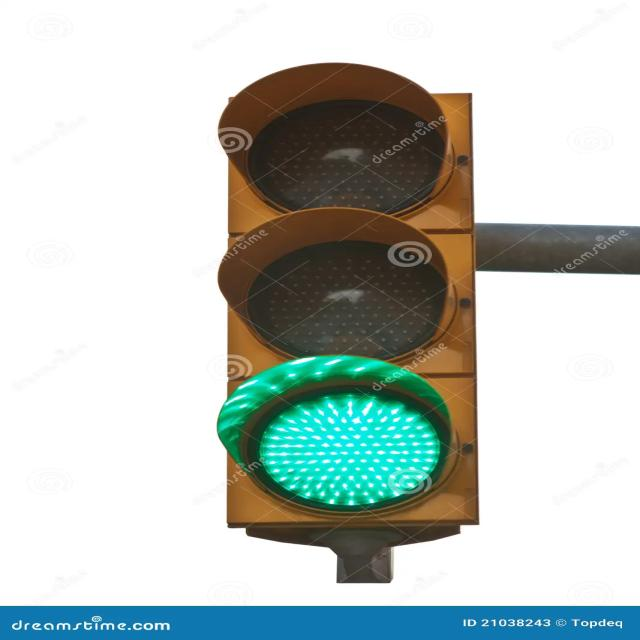green: (232, 355, 463, 533)
